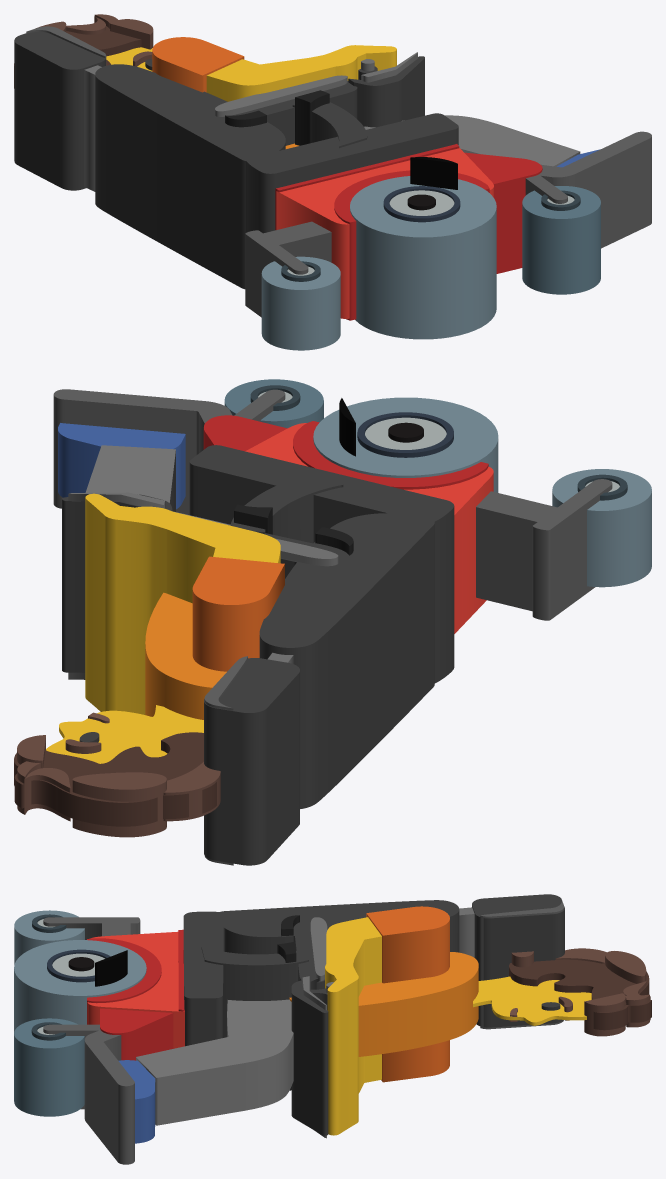
File: emoji_u1f9d1_200d_1f9bc_200d_27a1.glb
3 views of the same model, one above another, from view 1: azimuth 30°, elevation 25°; view 2: azimuth 150°, elevation 25°; view 3: azimuth 270°, elevation 25° (orthographic). The views are drawn at different scales.
Visible parts, largest first — view 1: emoji_u1f9d1_200d_1f9bc_200d_27a1; view 2: emoji_u1f9d1_200d_1f9bc_200d_27a1; view 3: emoji_u1f9d1_200d_1f9bc_200d_27a1.
Boxes of the visible parts, x1,y1,x2,y2 form: emoji_u1f9d1_200d_1f9bc_200d_27a1: (14, 14, 651, 350); emoji_u1f9d1_200d_1f9bc_200d_27a1: (14, 379, 651, 865); emoji_u1f9d1_200d_1f9bc_200d_27a1: (14, 894, 651, 1164).
Size of the model in its own units: 0.0236 by 0.0086 by 0.0339.
